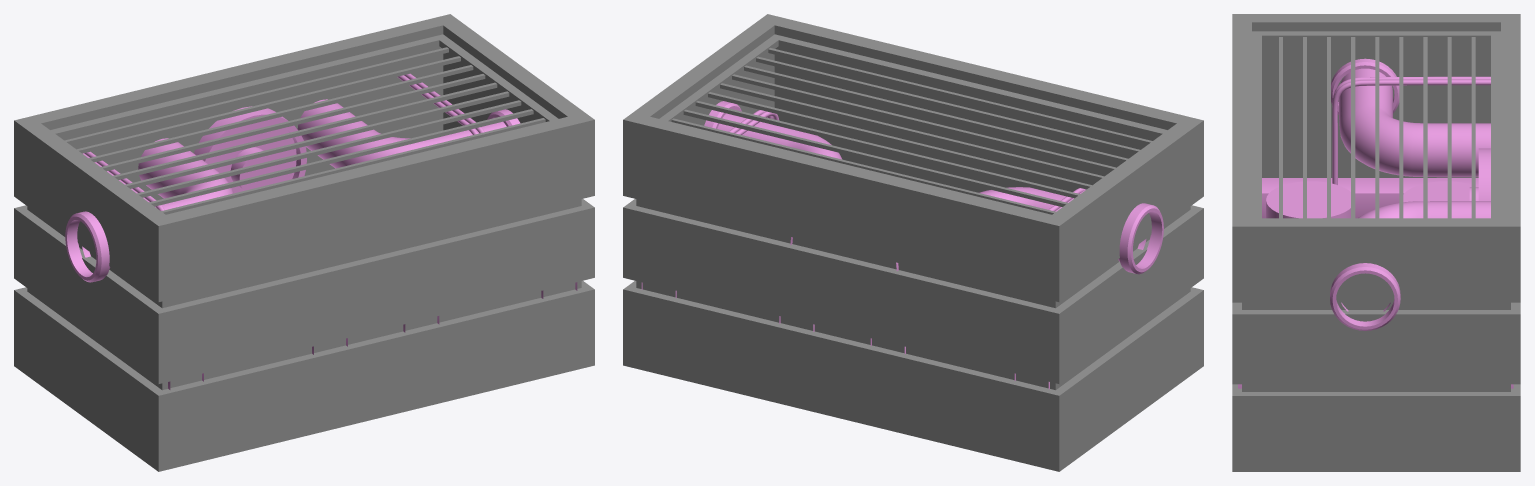
Rendered from sub_IceMachine.fbx.
The picture shows the model from 3 angles, left to right: view 1: azimuth 30°, elevation 25°; view 2: azimuth 150°, elevation 25°; view 3: azimuth 270°, elevation 25°; orthographic projection.
Parts seen in each view (by area): view 1: IceMachine1, IceMachine1_1, IceMachine2; view 2: IceMachine1, IceMachine1_1, IceMachine2; view 3: IceMachine1, IceMachine2, IceMachine1_1.
Boxes of the visible parts, box(x1,y1,x2,y2) form: IceMachine1: box(14, 14, 594, 471); IceMachine1_1: box(50, 34, 558, 214); IceMachine2: box(65, 73, 577, 389); IceMachine1: box(623, 14, 1203, 471); IceMachine1_1: box(659, 34, 1167, 214); IceMachine2: box(641, 101, 1163, 389); IceMachine1: box(1232, 14, 1520, 471); IceMachine2: box(1238, 58, 1513, 388); IceMachine1_1: box(1252, 31, 1500, 218).
Bounding box in the file's own units: 7.41 × 3.81 × 4.06.
